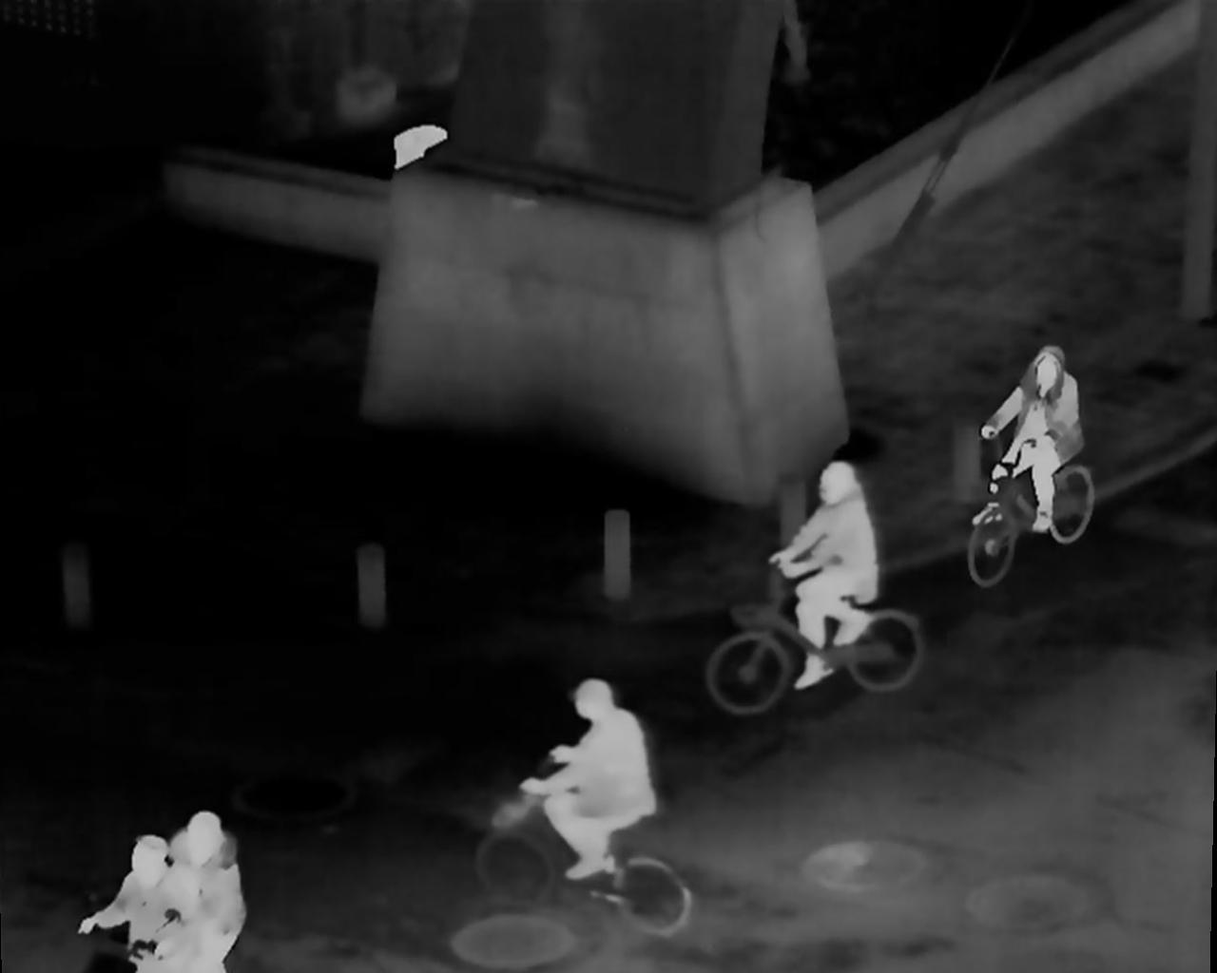person: (513, 676, 656, 873), (779, 457, 880, 685), (986, 338, 1085, 546), (88, 831, 198, 966), (150, 817, 241, 973)
